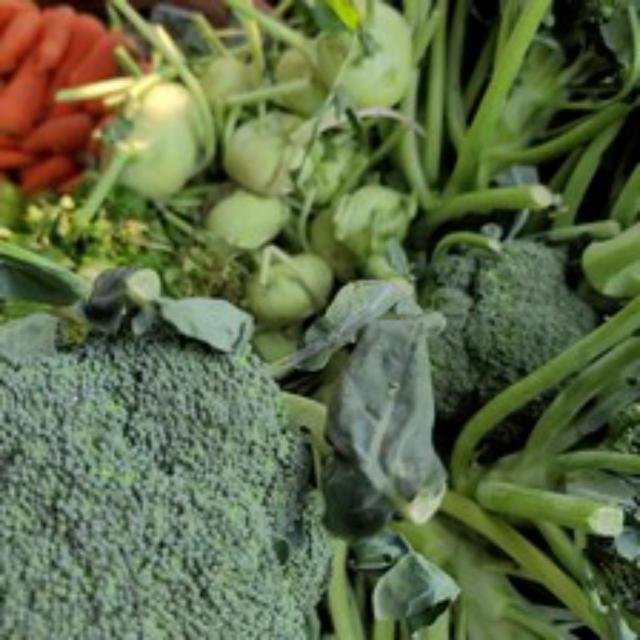broccoli: (0, 300, 346, 638)
